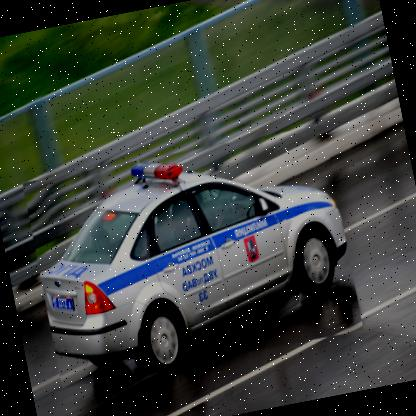Car: (21, 125, 363, 390)
